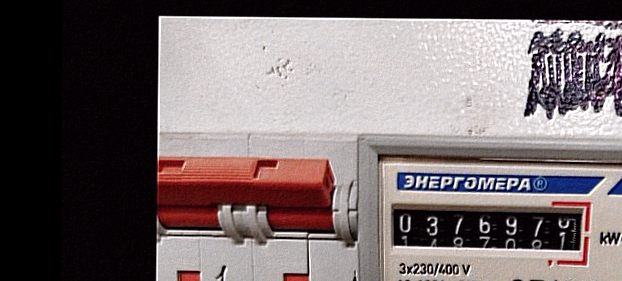0: (400, 211, 414, 233)
1: (557, 229, 570, 249)
3: (427, 214, 442, 236)
6: (479, 211, 494, 234)
7: (452, 211, 467, 234), (533, 214, 547, 237)
9: (505, 213, 520, 236)
screen: (383, 194, 595, 269)
